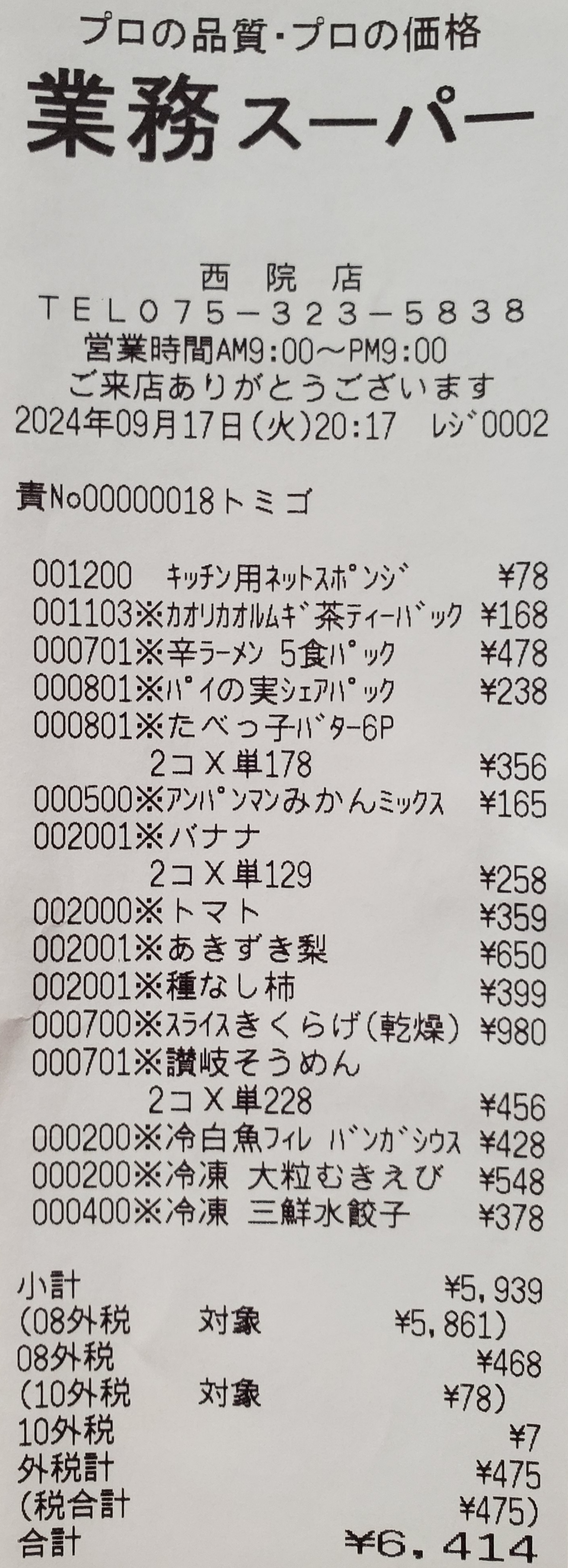Date: (8, 394, 254, 453)
Shopname: (8, 58, 568, 189)
Telnum: (128, 286, 537, 331)
Totalpay: (14, 1524, 549, 1566)
